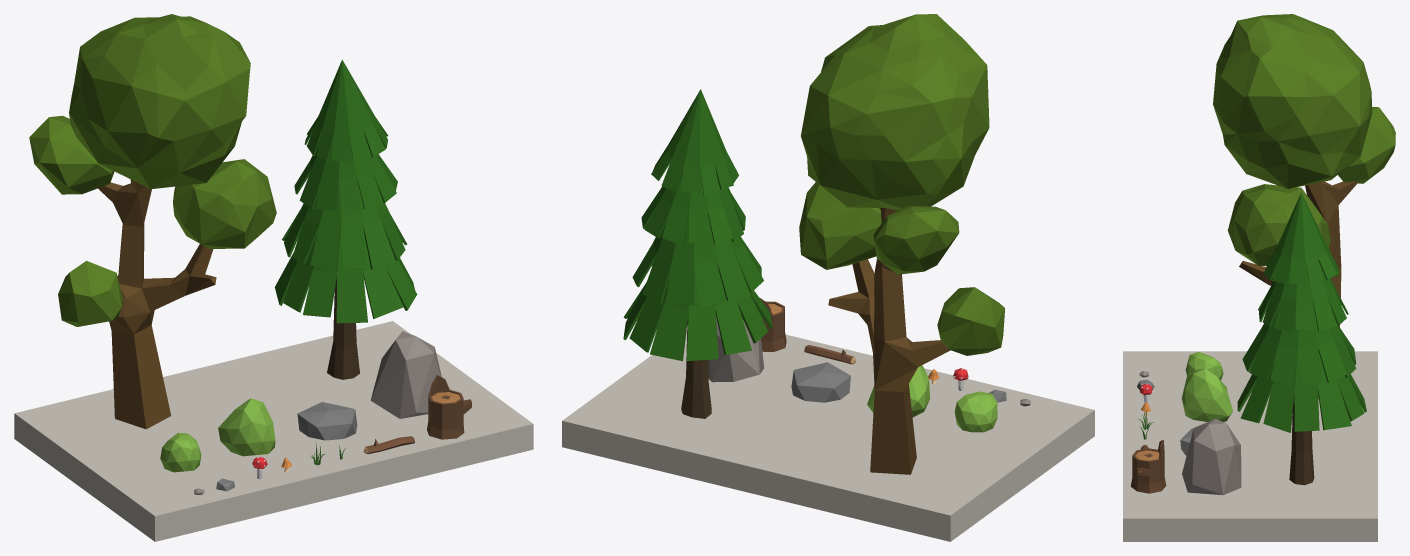
Rendered from NatureFreePack1.glb.
3 renders of one model, left to right at view 1: azimuth 30°, elevation 25°; view 2: azimuth 150°, elevation 25°; view 3: azimuth 270°, elevation 25°, orthographic. The views are drawn at different scales.
Visible parts, largest first — view 1: Tree1, BG_Cube, Tree2, Rock4, Bush1, Stump1, Rock1, Bush2; view 2: BG_Cube, Tree1, Tree2, Rock1, Rock4, Bush2, Stump1, Bush1; view 3: BG_Cube, Tree1, Tree2, Rock4, Bush1, Stump1, Bush2.
Part boxes in pixels (box(x1,y1,x2,y2)): Tree1: box(29, 14, 276, 429); BG_Cube: box(14, 321, 533, 541); Tree2: box(274, 59, 417, 379); Rock4: box(370, 331, 441, 418); Bush1: box(218, 398, 275, 456); Stump1: box(427, 375, 471, 439); Rock1: box(297, 402, 357, 440); Bush2: box(160, 432, 201, 472); BG_Cube: box(562, 329, 1094, 541); Tree1: box(799, 14, 1004, 474); Tree2: box(623, 89, 772, 418); Rock1: box(791, 362, 850, 402); Rock4: box(708, 316, 764, 382); Bush2: box(954, 391, 997, 432); Stump1: box(760, 298, 786, 351); Bush1: box(867, 365, 930, 417); BG_Cube: box(1123, 351, 1377, 541); Tree1: box(1213, 14, 1395, 399); Tree2: box(1237, 192, 1366, 485); Rock4: box(1182, 419, 1241, 495); Bush1: box(1181, 368, 1232, 421); Stump1: box(1130, 440, 1166, 493); Bush2: box(1185, 352, 1223, 379).
Size of what is drawn, in the model's own units: 22.51 by 25.1 by 15.47.
